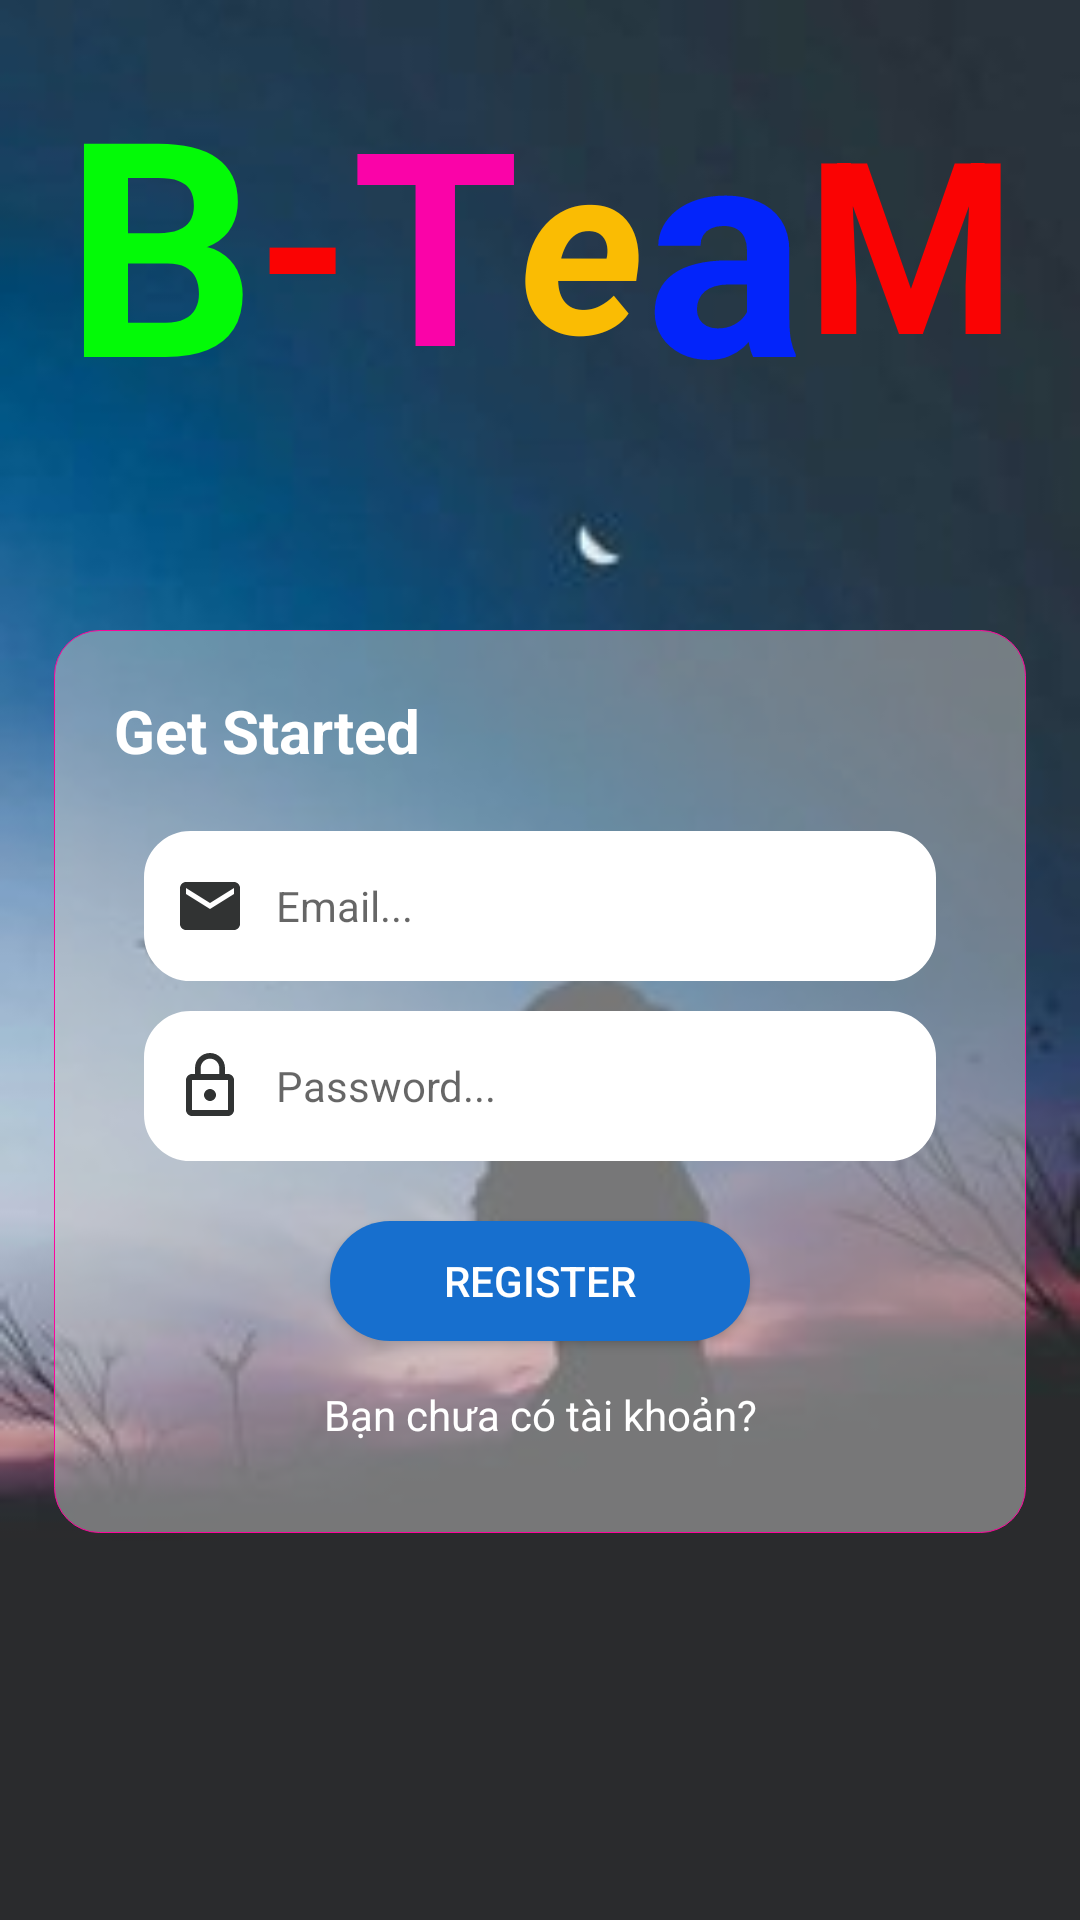

Icons on this 1080 × 1920 Android screen, each with its box as (x1,y1,x2,y2):
lock: (186,1053,234,1116)
